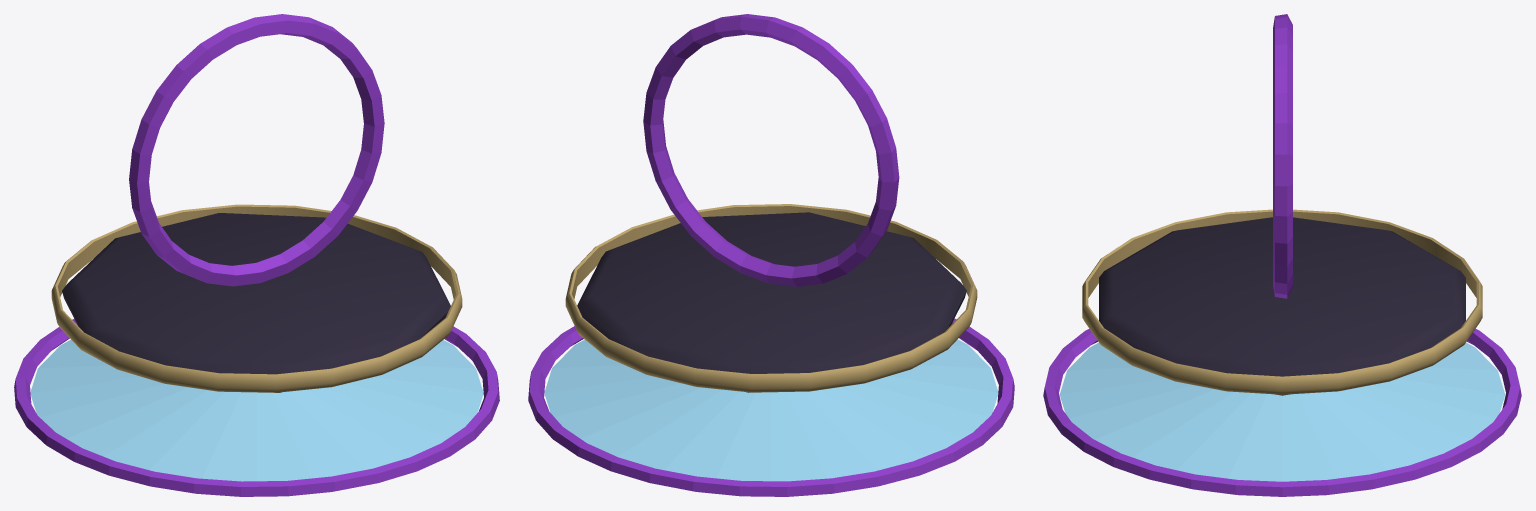
File: Kit_Foot_LeagueHover.glb
3 renders of one model, left to right at view 1: azimuth 30°, elevation 25°; view 2: azimuth 150°, elevation 25°; view 3: azimuth 270°, elevation 25°, orthographic.
Visible parts, largest first — view 1: Kit_Foot_LeagueHover; view 2: Kit_Foot_LeagueHover; view 3: Kit_Foot_LeagueHover.
Boxes of the visible parts, <box> form: Kit_Foot_LeagueHover: <box>14,14,499,496</box>; Kit_Foot_LeagueHover: <box>528,14,1014,496</box>; Kit_Foot_LeagueHover: <box>1043,14,1521,496</box>.
Size of the model in its own units: 0.161 by 0.1389 by 0.161.
